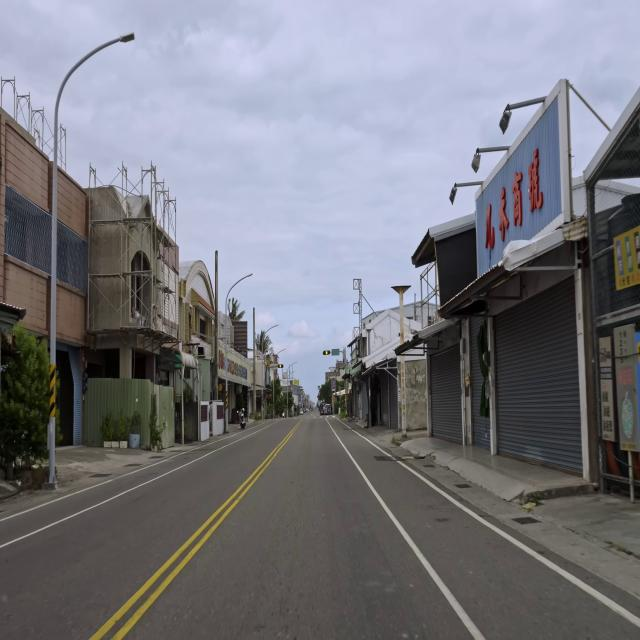yellow light: (323, 350, 330, 355), (278, 364, 284, 368)
